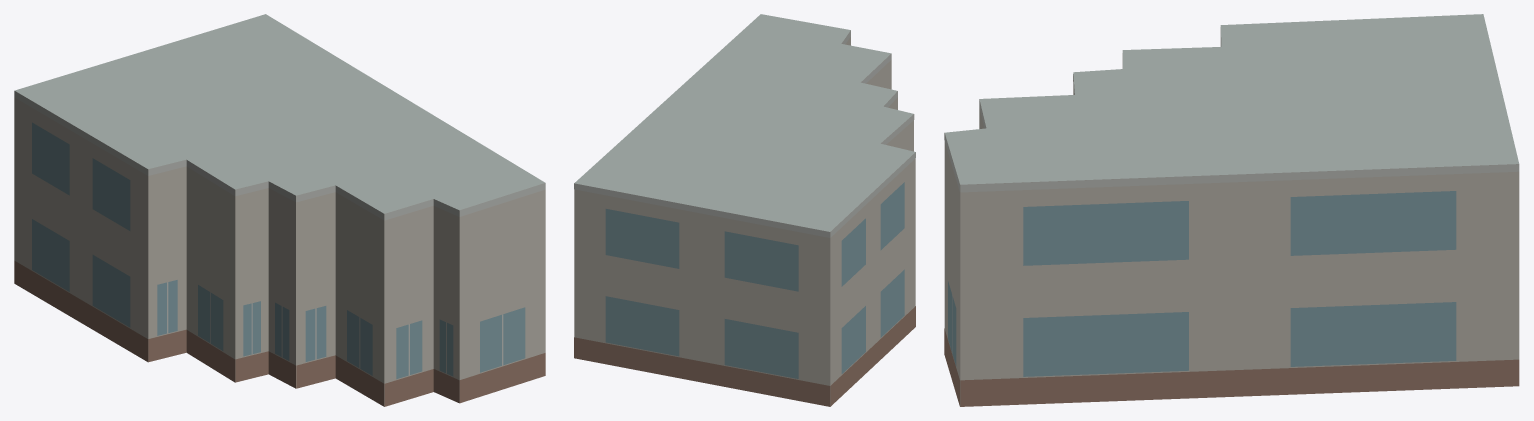
File: survey-upis-32619312.glb
3 views of the same model, side by side, from view 1: azimuth 30°, elevation 25°; view 2: azimuth 150°, elevation 25°; view 3: azimuth 270°, elevation 25° (orthographic). The views are drawn at different scales.
Parts seen in each view (by area): view 1: survey-upis-32619312.tmp; view 2: survey-upis-32619312.tmp; view 3: survey-upis-32619312.tmp.
Part boxes in pixels (x1,y1,x2,y2): survey-upis-32619312.tmp: [14, 14, 545, 406]; survey-upis-32619312.tmp: [574, 14, 915, 406]; survey-upis-32619312.tmp: [944, 14, 1519, 406].
Size of the model in its own units: 11.55 by 7 by 16.42.
